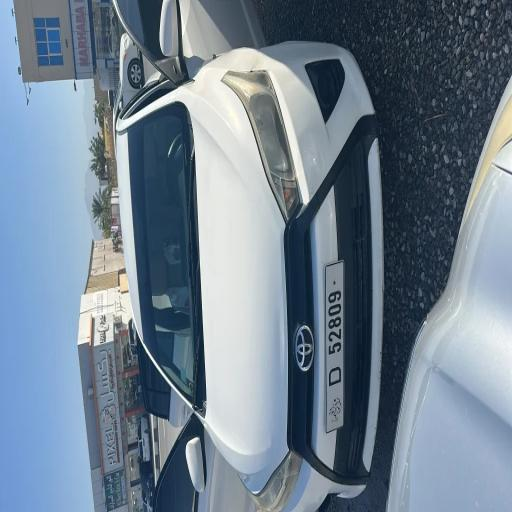license-plates: (325, 261, 344, 434)
